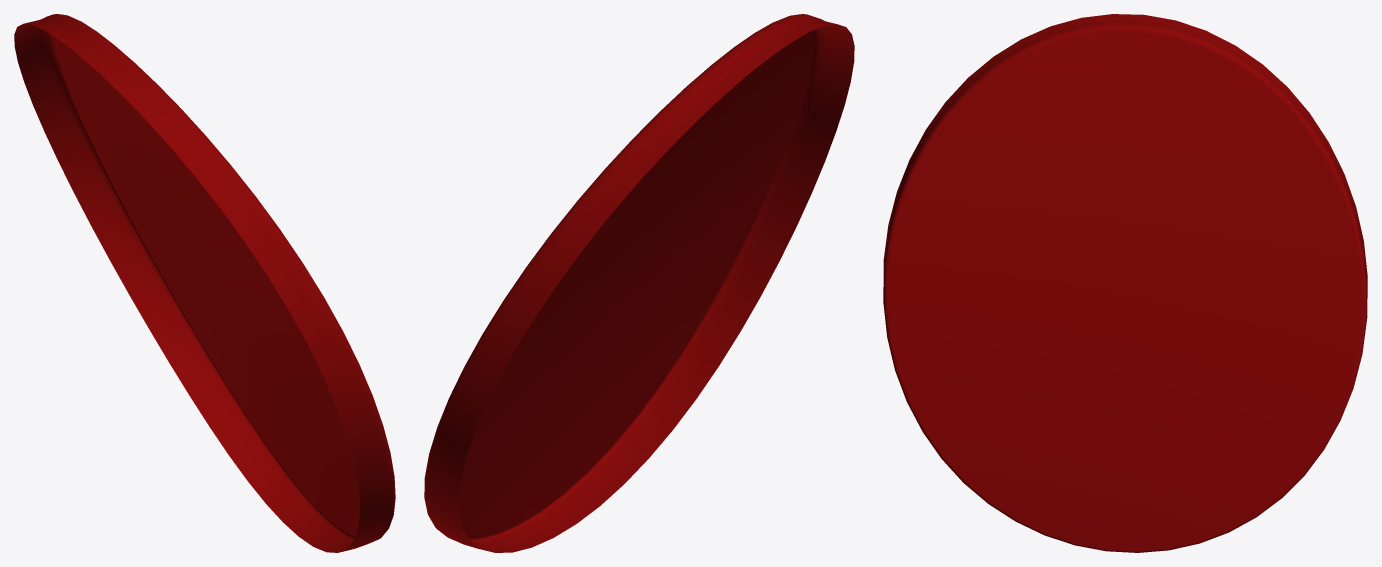
File: c7gascap.glb
3 renders of one model, left to right at view 1: azimuth 30°, elevation 25°; view 2: azimuth 150°, elevation 25°; view 3: azimuth 270°, elevation 25°, orthographic. The views are drawn at different scales.
Visible parts, largest first — view 1: Fuel_Cap_Crysal_Red_0; view 2: Fuel_Cap_Crysal_Red_0; view 3: Fuel_Cap_Crysal_Red_0.
Boxes of the visible parts, x1,y1,x2,y2 form: Fuel_Cap_Crysal_Red_0: [14, 14, 395, 552]; Fuel_Cap_Crysal_Red_0: [424, 14, 854, 552]; Fuel_Cap_Crysal_Red_0: [883, 14, 1367, 552].
Size of the model in its own units: 0.0725 by 0.1435 by 0.143.
